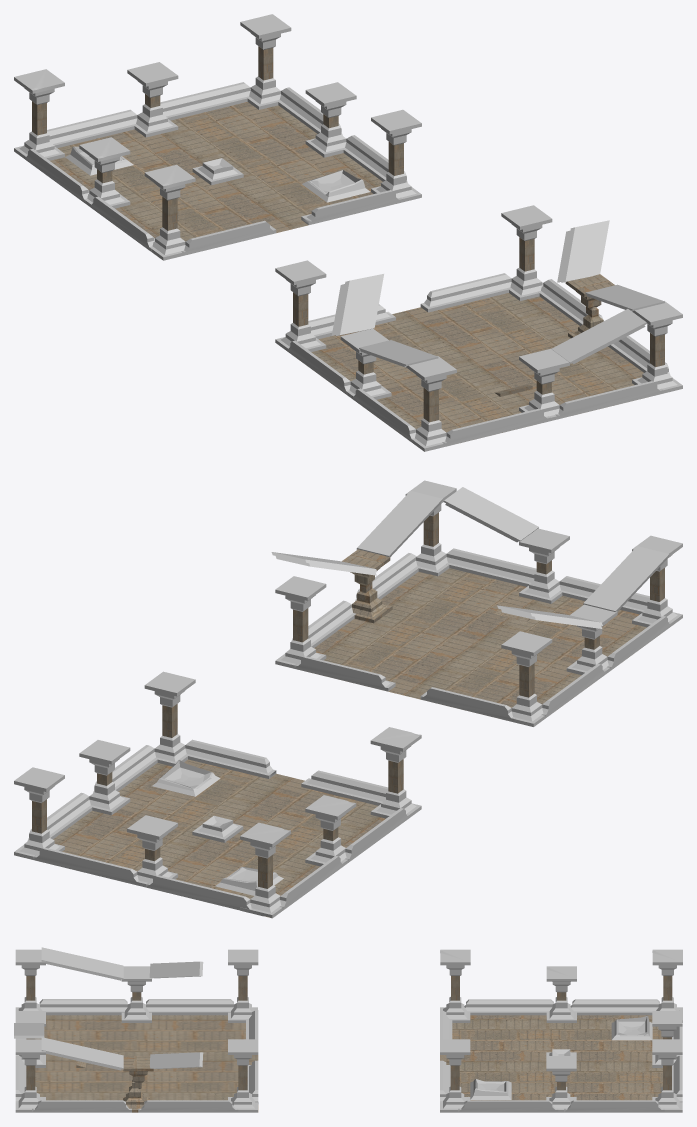
The model's file is Level_1.fbx.
The picture shows the model from 3 angles, top to bottom: view 1: azimuth 30°, elevation 25°; view 2: azimuth 150°, elevation 25°; view 3: azimuth 270°, elevation 25°; orthographic projection. The views are drawn at different scales.
Visible parts, largest first — view 1: Plane.001, Plane.003, ArkeHalf.050, ArkeHalf.048, ArkeHalf.030, ArkeHalf.034, ArkeHalf.033, ArkeHalf.043, ArkeHalf.042, ArkeHalf.003, ArkeHalf.040, ArkeHalf.038 (+39 smaller); view 2: Plane.003, Plane.001, ArkeHalf.047, ArkeHalf.049, ArkeHalf.030, ArkeHalf.042, ArkeHalf.040, ArkeHalf.038, ArkeHalf.033, ArkeHalf.034, ArkeHalf.043, ArkeHalf.044 (+39 smaller); view 3: Plane.001, Plane.003, ArkeHalf.036, ArkeHalf.041, ArkeHalf.051, ArkeHalf.035, ArkeHalf.047, ArkeHalf.049, ArkeHalf.046, ArkeHalf.031, ArkeHalf.032, ArkeHalf.045 (+35 smaller).
Part boxes in pixels (x1,y1,x2,y2): Plane.001: (50,102,382,241); Plane.003: (311,293,643,443); ArkeHalf.050: (331,274,383,336); ArkeHalf.048: (557,220,609,282); ArkeHalf.030: (551,309,647,363); ArkeHalf.034: (47,109,137,148); ArkeHalf.033: (160,82,250,120); ArkeHalf.043: (420,273,511,312); ArkeHalf.042: (555,381,663,419); ArkeHalf.003: (442,408,550,446); ArkeHalf.040: (301,190,401,224); ArkeHalf.038: (181,220,276,252); Plane.003: (312,568,646,717); Plane.001: (53,759,385,917); ArkeHalf.047: (356,491,442,556); ArkeHalf.049: (583,546,669,611); ArkeHalf.030: (443,487,538,542); ArkeHalf.042: (446,548,536,586); ArkeHalf.040: (185,739,276,778); ArkeHalf.038: (301,770,388,805); ArkeHalf.033: (33,847,141,885); ArkeHalf.034: (146,875,254,910); ArkeHalf.043: (294,656,395,691); ArkeHalf.044: (420,687,515,722); Plane.001: (440,1015,662,1100); Plane.003: (35,1015,258,1112); ArkeHalf.036: (464,999,553,1015); ArkeHalf.041: (146,999,233,1015); ArkeHalf.051: (39,999,127,1015); ArkeHalf.035: (570,999,659,1015); ArkeHalf.047: (41,1037,123,1070); ArkeHalf.049: (41,947,123,980); ArkeHalf.046: (138,1100,238,1112); ArkeHalf.031: (458,1100,558,1112); ArkeHalf.032: (564,1100,664,1112); ArkeHalf.045: (32,1100,131,1112).
Bounding box in the file's own units: 1885 × 466 × 4412.
